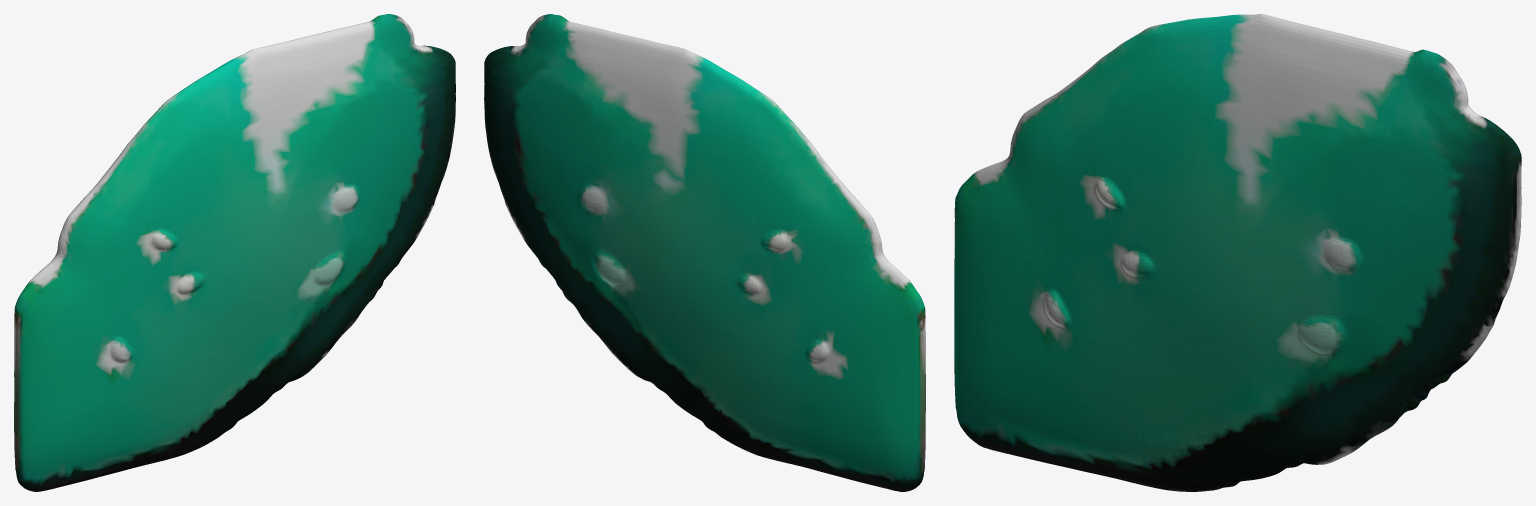
File: emerald_exceptional.glb
3 renders of one model, left to right at view 1: azimuth 30°, elevation 25°; view 2: azimuth 150°, elevation 25°; view 3: azimuth 330°, elevation 25°, orthographic. The views are drawn at different scales.
Parts seen in each view (by area): view 1: geometry_0; view 2: geometry_0; view 3: geometry_0.
Boxes of the visible parts, left/top/right/bottom form: geometry_0: left=14, top=14, right=455, bottom=491; geometry_0: left=484, top=14, right=925, bottom=491; geometry_0: left=954, top=14, right=1521, bottom=491.
Size of the model in its own units: 0.5855 by 0.5 by 0.0874.
